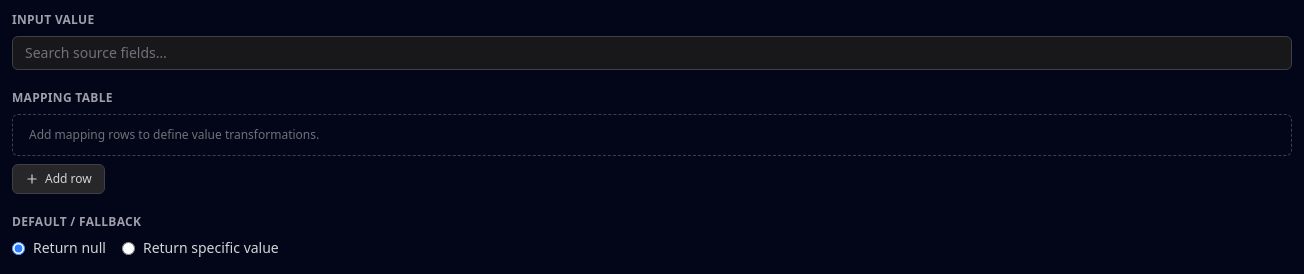
Test: ValueMapModeBuilder — source picker › selecting a source field shows it as a chip
Click the field with test id "value-map-source-search": (652, 53) left=12, top=36, right=1292, bottom=70
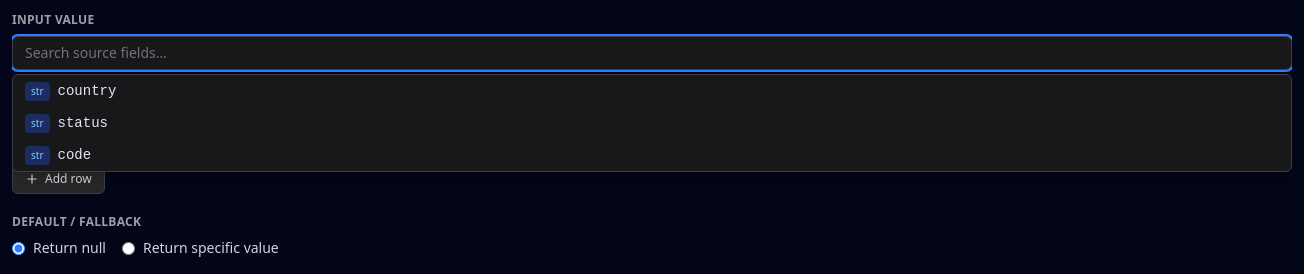
Click the text "country": (87, 91) left=58, top=81, right=116, bottom=101
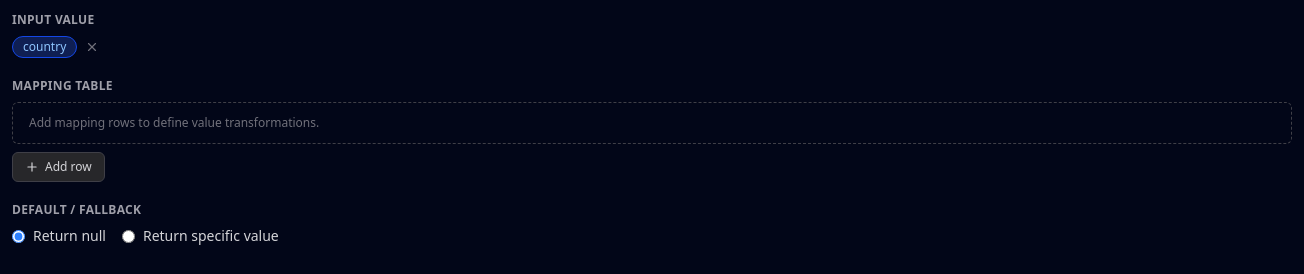
Expected: the text "country" is shown, left=12, top=36, right=77, bottom=58
Expected: the field with test id "value-map-source-search" is gone
